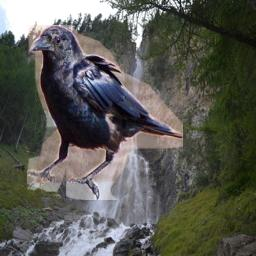Crow: (27, 25, 183, 200)
